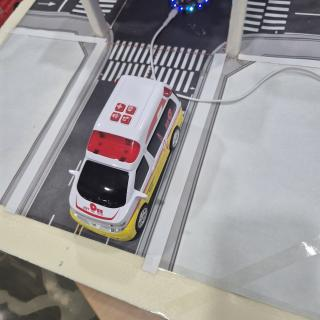Ambulance: (69, 75, 183, 241)
